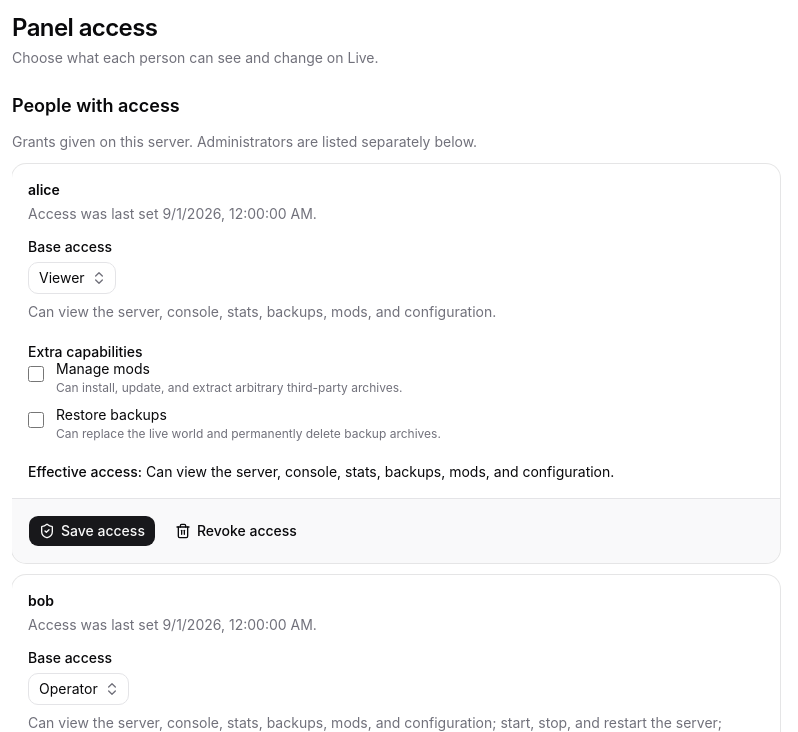
Scenario: readable access › updates the effective access with the draft and flags unsaved changes
Expected: the text "Unsaved changes" is not shown
Click the checkbox labelled "Manage mods". click: {"x": 36, "y": 374}
box: top-left (28, 366), bottom-right (44, 382)
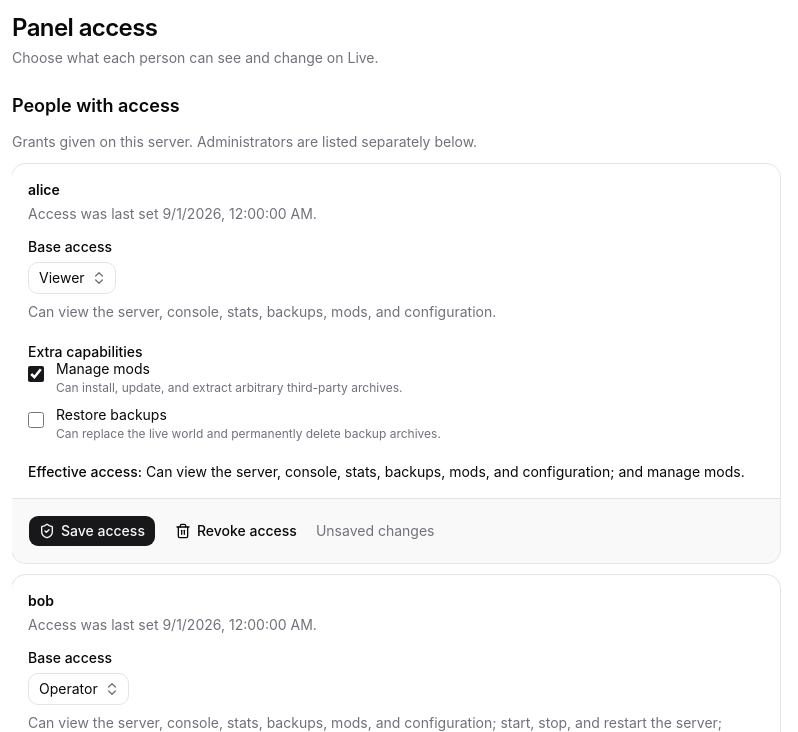
Expected: the element "alice" shows "Effective access: Can view the server, console, stats, backups, mods, and configuration; and manage mods.", top-left (12, 164), bottom-right (780, 563)
Expected: the text "Unsaved changes" is shown, top-left (316, 521), bottom-right (434, 541)
Click the checkbox labelled "Manage mods". click: {"x": 36, "y": 374}
box: top-left (28, 366), bottom-right (44, 382)
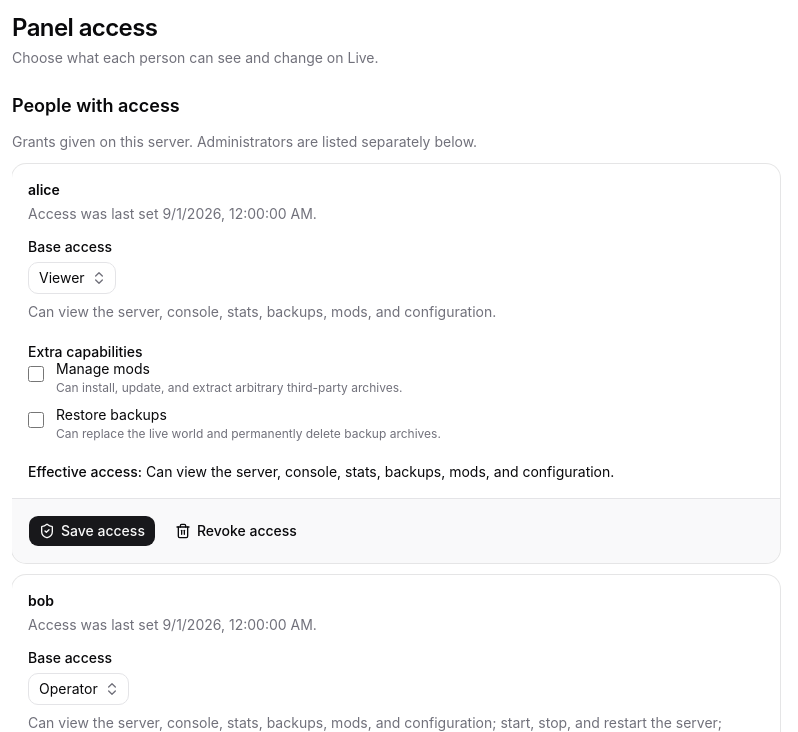
Expected: the text "Unsaved changes" is gone
